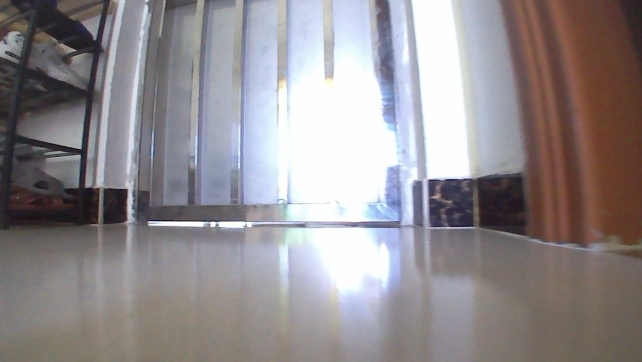door_anno: (137, 0, 425, 228)
shoe: (0, 28, 88, 91)
slipper: (0, 163, 77, 200)
